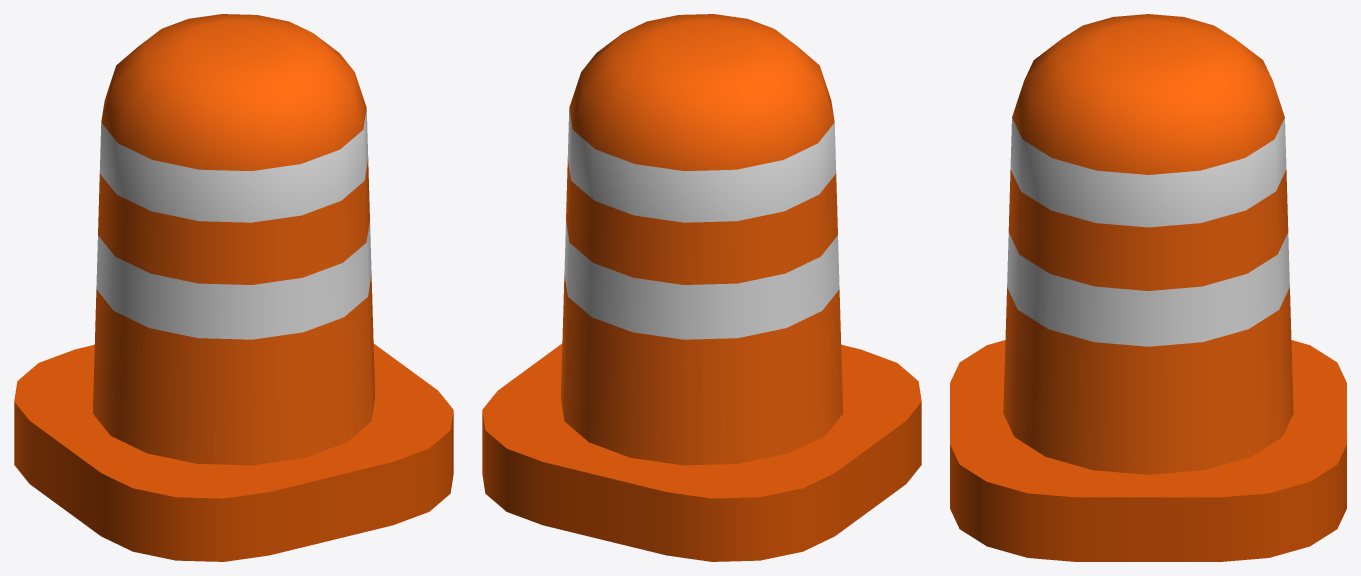
Rendered from Konus01.fbx.
3 renders of one model, left to right at view 1: azimuth 30°, elevation 25°; view 2: azimuth 150°, elevation 25°; view 3: azimuth 270°, elevation 25°, orthographic.
Parts seen in each view (by area): view 1: Konus01; view 2: Konus01; view 3: Konus01.
Boxes of the visible parts, x1,y1,x2,y2 form: Konus01: (14, 14, 453, 561); Konus01: (482, 14, 921, 561); Konus01: (950, 14, 1346, 561).
Bounding box in the file's own units: 0.7628 × 0.9235 × 0.7628.
Materials: 1 (1 with a texture image).
